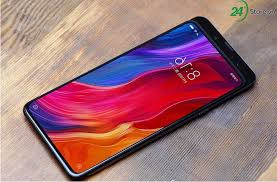mi: (16, 7, 257, 182)
